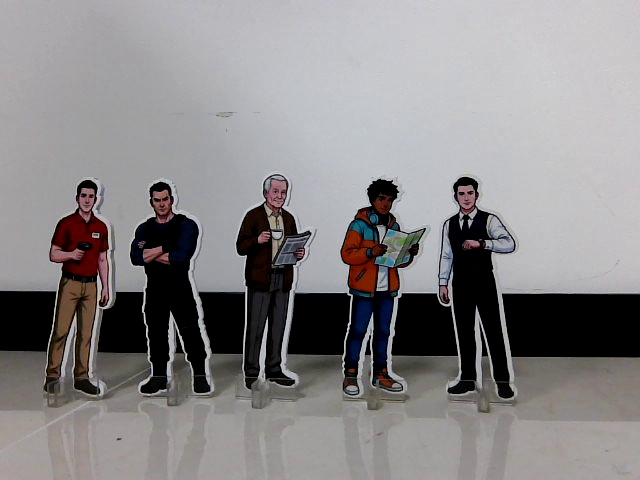community_person: (434, 167, 528, 420), (336, 169, 427, 415), (230, 167, 320, 414), (40, 169, 117, 410)
outsider: (125, 170, 222, 412)
